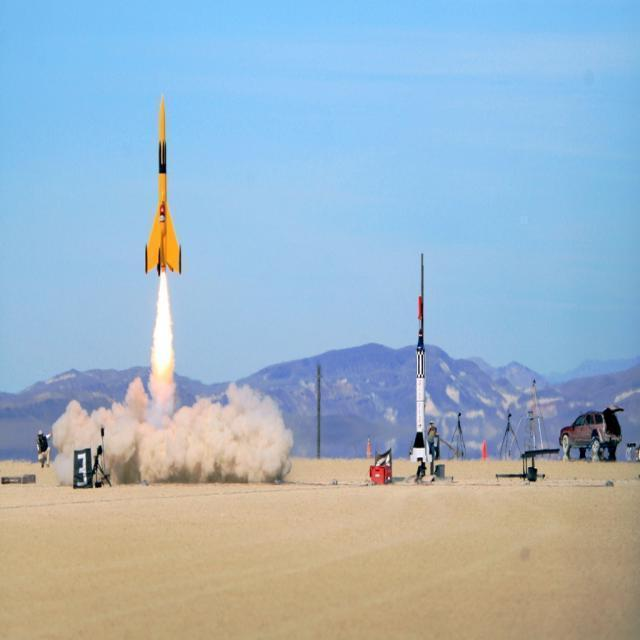missile: (147, 96, 190, 303), (408, 243, 438, 451)
